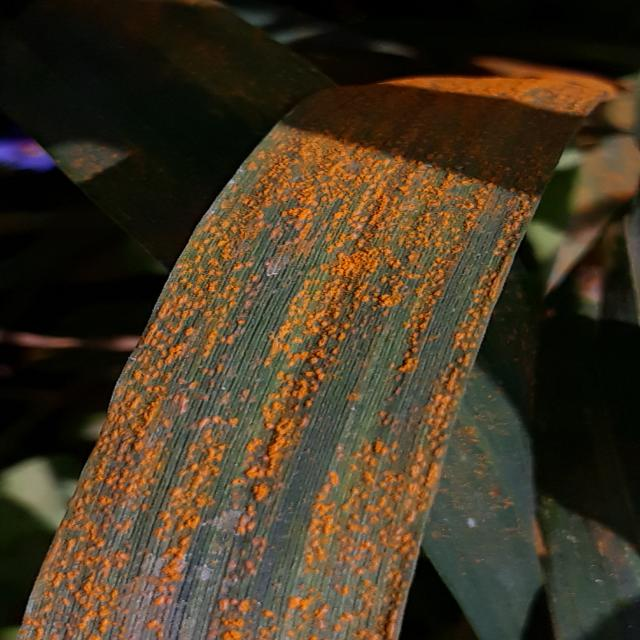yellow_rust: (11, 3, 626, 640)
